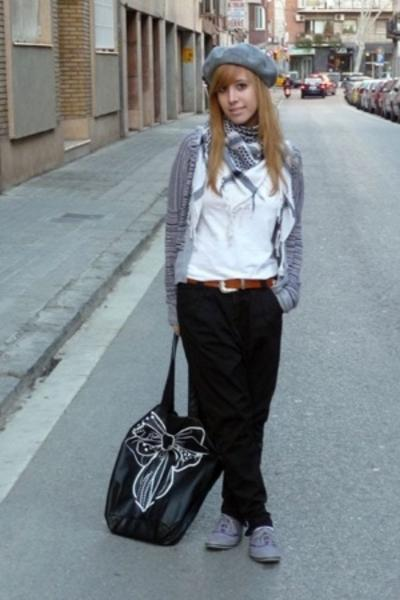bag: (104, 396, 213, 546)
hat: (204, 43, 266, 77)
jacket: (160, 141, 303, 313)
pants: (175, 279, 283, 535)
shirt: (175, 161, 294, 295)
shoe: (204, 511, 281, 569)
